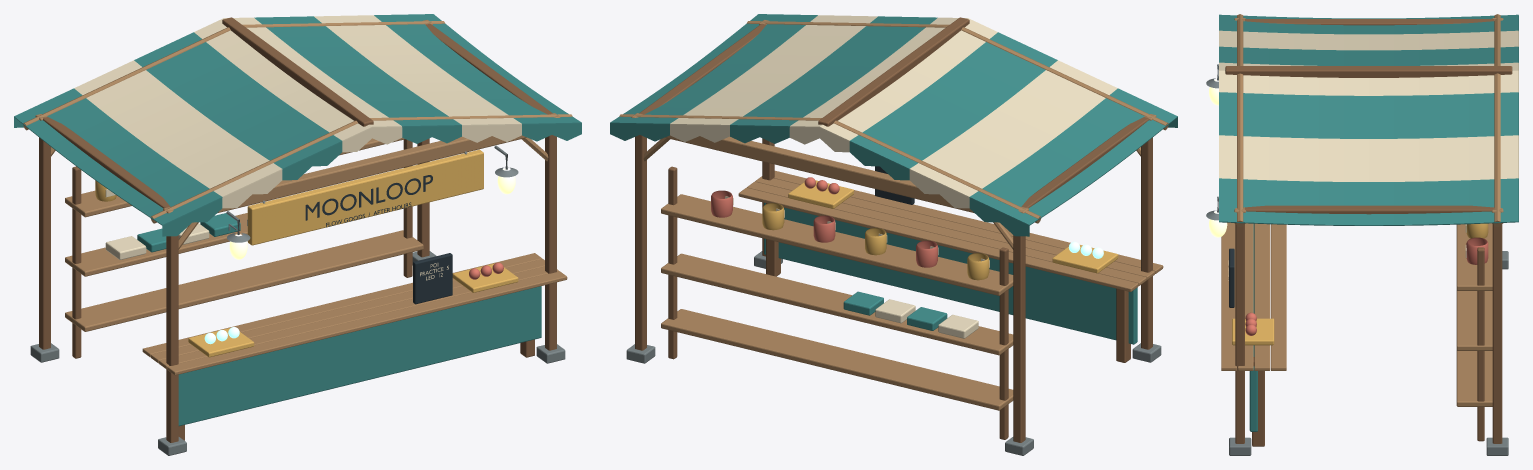
The model's file is AH01_Stall.fbx.
3 views of the same model, side by side, from view 1: azimuth 30°, elevation 25°; view 2: azimuth 150°, elevation 25°; view 3: azimuth 270°, elevation 25° (orthographic).
Parts seen in each view (by area): view 1: AH01_Stall_AH01_Teal, AH01_Stall_AH01_WoodLight, AH01_Stall_AH01_Cream, AH01_Stall_AH01_Wood, AH01_Stall_AH01_Ochre, AH01_Stall_AH01_Ink, AH01_Stall_AH01_Metal, AH01_Stall_AH01_Glow; view 2: AH01_Stall_AH01_Teal, AH01_Stall_AH01_WoodLight, AH01_Stall_AH01_Cream, AH01_Stall_AH01_Wood, AH01_Stall_AH01_Ochre, AH01_Stall_AH01_Coral, AH01_Stall_AH01_Metal; view 3: AH01_Stall_AH01_Teal, AH01_Stall_AH01_Cream, AH01_Stall_AH01_WoodLight, AH01_Stall_AH01_Wood, AH01_Stall_AH01_Metal, AH01_Stall_AH01_Ochre, AH01_Stall_AH01_Coral, AH01_Stall_AH01_Glow, AH01_Stall_AH01_Ink.
Part boxes in pixels (bbox=[...]): AH01_Stall_AH01_Teal: bbox=[14, 14, 581, 426]; AH01_Stall_AH01_WoodLight: bbox=[23, 20, 572, 375]; AH01_Stall_AH01_Cream: bbox=[74, 15, 521, 280]; AH01_Stall_AH01_Wood: bbox=[39, 17, 556, 442]; AH01_Stall_AH01_Ochre: bbox=[95, 149, 518, 357]; AH01_Stall_AH01_Ink: bbox=[305, 175, 452, 304]; AH01_Stall_AH01_Metal: bbox=[30, 145, 565, 455]; AH01_Stall_AH01_Glow: bbox=[229, 168, 515, 259]; AH01_Stall_AH01_Teal: bbox=[610, 14, 1177, 344]; AH01_Stall_AH01_WoodLight: bbox=[619, 20, 1168, 410]; AH01_Stall_AH01_Cream: bbox=[670, 15, 1117, 338]; AH01_Stall_AH01_Wood: bbox=[635, 17, 1152, 442]; AH01_Stall_AH01_Ochre: bbox=[762, 180, 1118, 280]; AH01_Stall_AH01_Coral: bbox=[711, 177, 937, 267]; AH01_Stall_AH01_Metal: bbox=[626, 251, 1161, 455]; AH01_Stall_AH01_Teal: bbox=[1219, 14, 1518, 431]; AH01_Stall_AH01_Cream: bbox=[1219, 30, 1518, 280]; AH01_Stall_AH01_WoodLight: bbox=[1221, 14, 1503, 406]; AH01_Stall_AH01_Wood: bbox=[1225, 19, 1512, 446]; AH01_Stall_AH01_Metal: bbox=[1206, 64, 1508, 455]; AH01_Stall_AH01_Ochre: bbox=[1232, 223, 1488, 345]; AH01_Stall_AH01_Coral: bbox=[1245, 237, 1488, 335]; AH01_Stall_AH01_Glow: bbox=[1209, 79, 1227, 237]; AH01_Stall_AH01_Ink: bbox=[1229, 248, 1234, 307].
Bounding box in the file's own units: 532 × 349 × 340.
